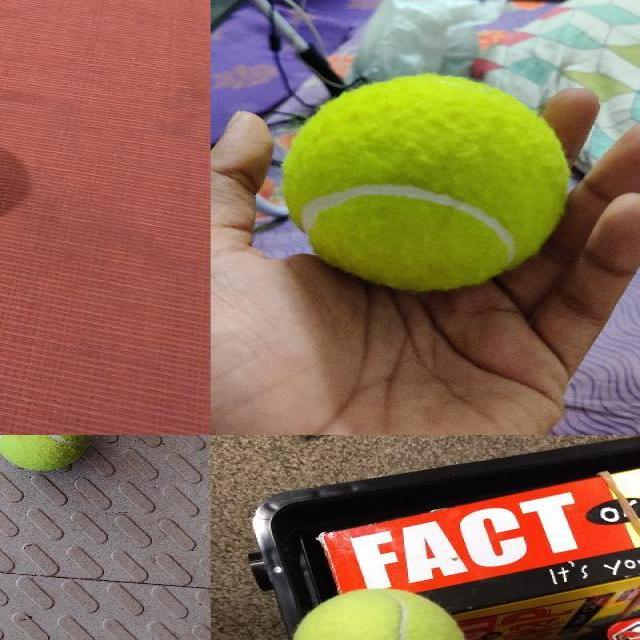tennis-ball: (278, 73, 570, 295), (288, 586, 472, 639), (0, 435, 91, 471)
